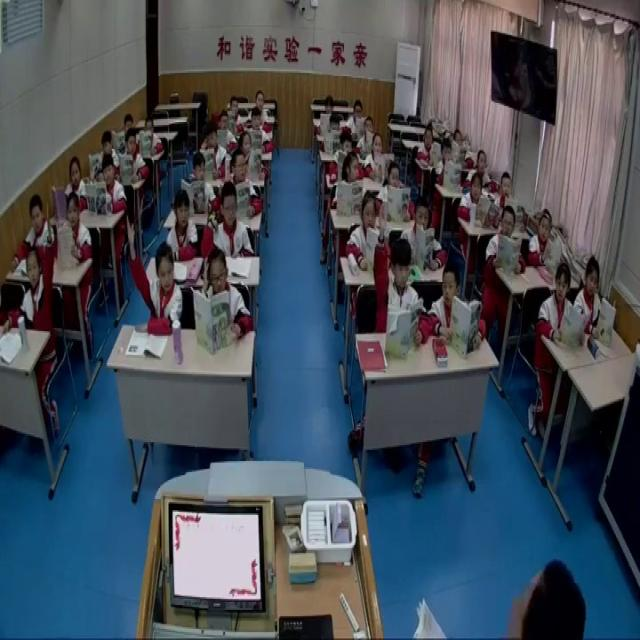distracted: (334, 150, 368, 219)
focused: (429, 267, 478, 355), (210, 182, 256, 264), (347, 187, 385, 277), (540, 260, 578, 344), (487, 205, 527, 280), (16, 193, 56, 264), (579, 254, 612, 340), (404, 200, 446, 266), (228, 147, 264, 218), (167, 191, 201, 264), (62, 188, 92, 264), (456, 170, 491, 227), (383, 159, 414, 219), (187, 151, 216, 213), (526, 211, 556, 269), (199, 128, 231, 182), (100, 154, 126, 218), (362, 128, 390, 186), (435, 137, 463, 195), (330, 128, 355, 182), (64, 154, 88, 205), (123, 134, 147, 184), (141, 115, 164, 159), (95, 130, 118, 172), (416, 124, 436, 170), (473, 147, 491, 196), (250, 108, 270, 152), (358, 114, 377, 156), (239, 129, 256, 175), (217, 106, 234, 148), (328, 110, 344, 152), (496, 172, 514, 209), (256, 87, 270, 133), (322, 94, 339, 129), (229, 96, 244, 128), (351, 100, 365, 132)
raising_hand: (372, 197, 427, 346), (124, 214, 184, 340), (197, 249, 253, 355), (24, 196, 56, 336)
